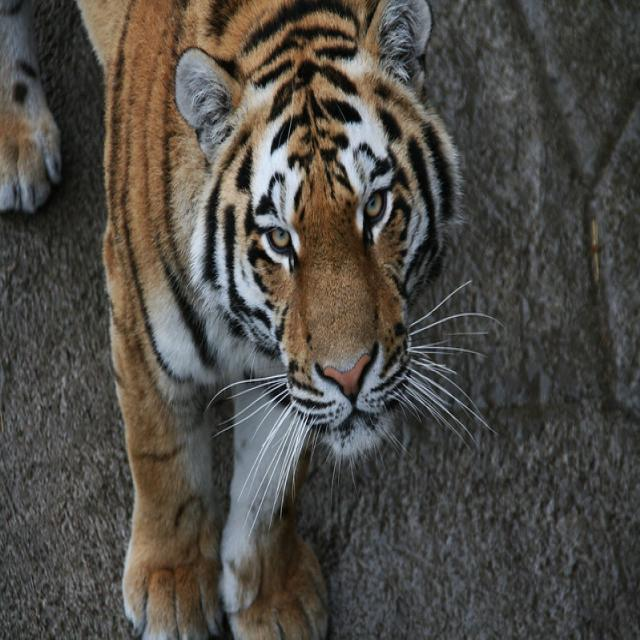Tiger: (82, 4, 486, 632)
